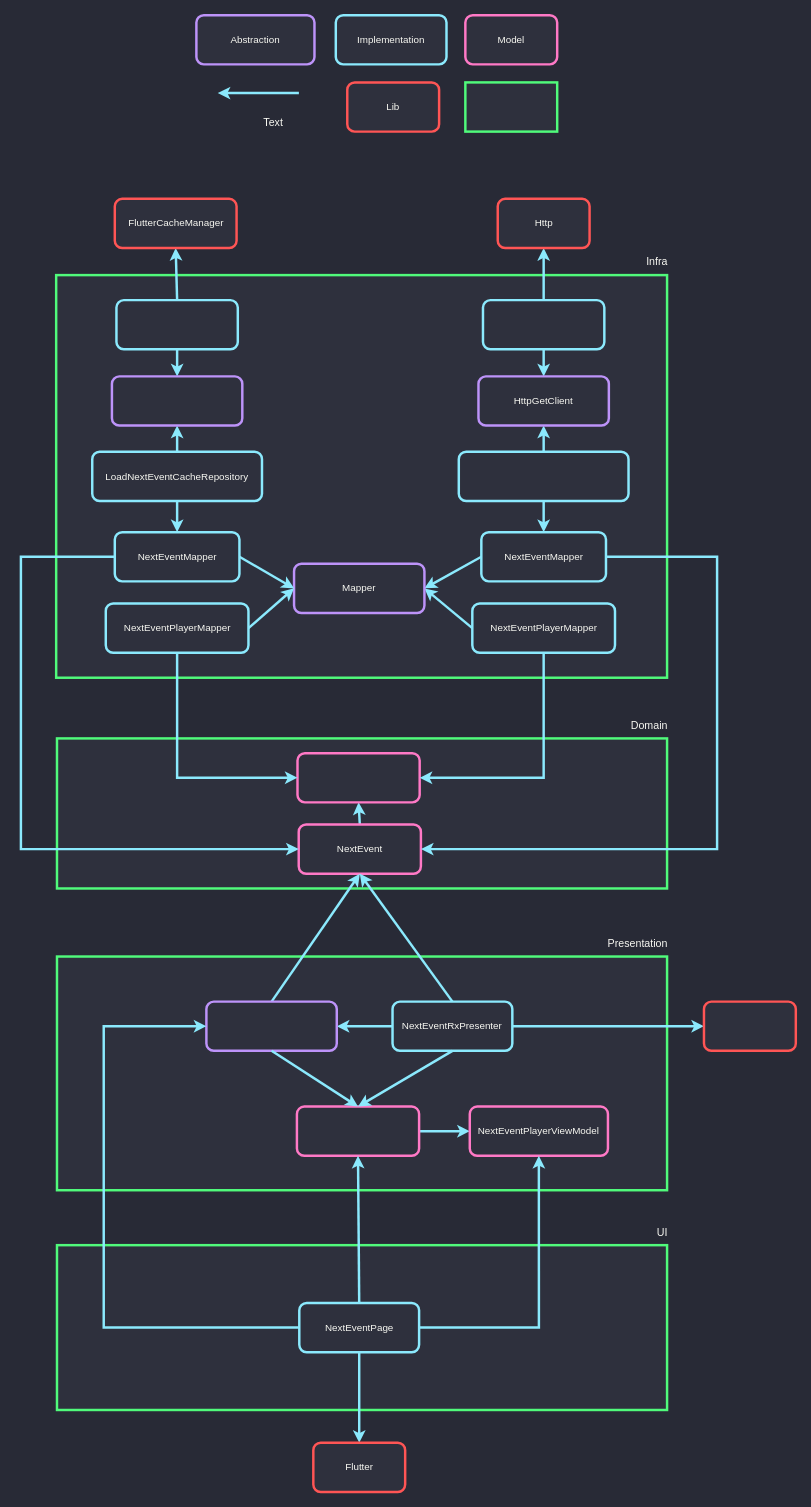
The diagram is 811 pixels wide and 1507 high, and some of its shapes have lost their labels. Here are the shapes that lost their labels. From the top down, the centre of each, then its label:
At pixel 511 106: "Layer".
At pixel 177 324: "CacheManagerAdapter".
At pixel 543 324: "HttpAdapter".
At pixel 176 400: "CacheGetClient".
At pixel 543 476: "LoadNextEventApiRepository".
At pixel 358 777: "NextEventPlayer".
At pixel 271 1026: "NextEventPresenter".
At pixel 749 1026: "RxDart".
At pixel 357 1131: "NextEventViewModel".
